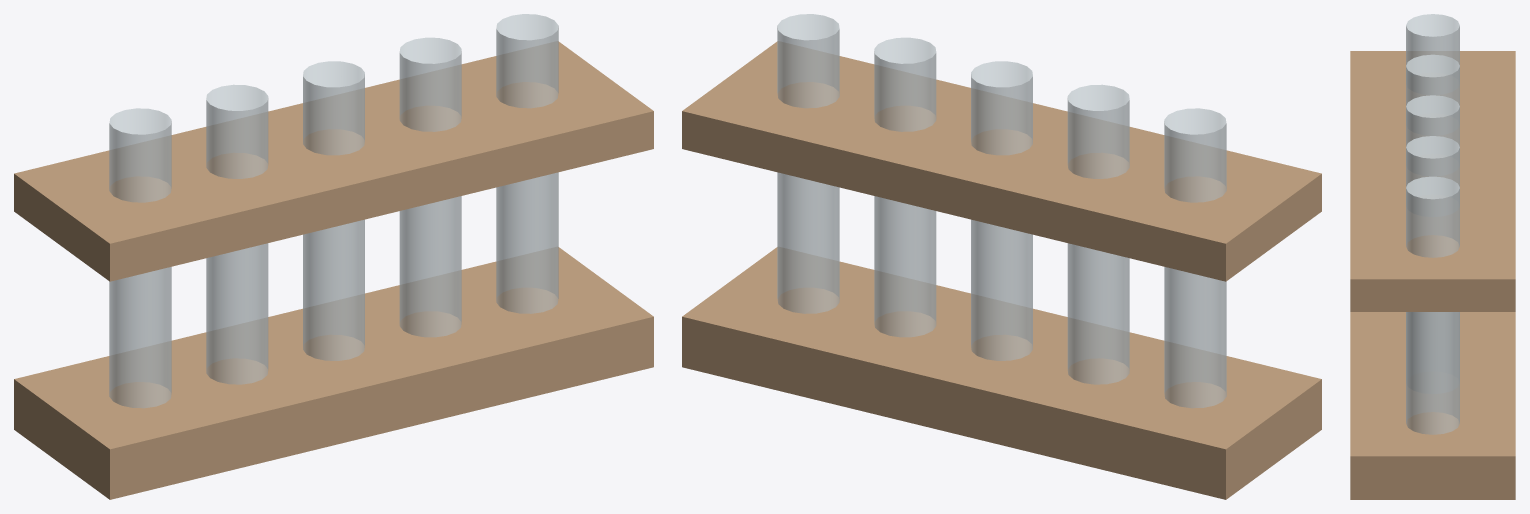
The model's file is TestTubeRack.glb.
3 views of the same model, side by side, from view 1: azimuth 30°, elevation 25°; view 2: azimuth 150°, elevation 25°; view 3: azimuth 270°, elevation 25° (orthographic). The views are drawn at different scales.
Visible parts, largest first — view 1: Base, TopRail, Tube_1, Tube_5, Tube_4, Tube_2, Tube_3; view 2: Base, TopRail, Tube_1, Tube_5, Tube_4, Tube_2, Tube_3; view 3: TopRail, Base, Tube_5, Tube_4, Tube_1, Tube_2, Tube_3.
Boxes of the visible parts, bbox=[...] form: Base: bbox=[14, 247, 653, 499]; TopRail: bbox=[14, 41, 653, 281]; Tube_1: bbox=[109, 108, 171, 408]; Tube_5: bbox=[496, 14, 558, 313]; Tube_4: bbox=[399, 37, 461, 337]; Tube_2: bbox=[206, 84, 268, 384]; Tube_3: bbox=[303, 61, 364, 360]; Base: bbox=[682, 247, 1321, 499]; TopRail: bbox=[682, 41, 1321, 281]; Tube_1: bbox=[1164, 108, 1226, 408]; Tube_5: bbox=[777, 14, 839, 313]; Tube_4: bbox=[874, 37, 936, 337]; Tube_2: bbox=[1067, 84, 1129, 384]; Tube_3: bbox=[971, 61, 1032, 360]; TopRail: bbox=[1350, 51, 1515, 311]; Base: bbox=[1350, 312, 1515, 499]; Tube_5: bbox=[1406, 176, 1459, 434]; Tube_4: bbox=[1406, 136, 1459, 187]; Tube_1: bbox=[1406, 14, 1459, 65]; Tube_2: bbox=[1406, 54, 1459, 106]; Tube_3: bbox=[1406, 95, 1459, 146].
Bounding box in the file's own units: 1.8 × 1.02 × 0.55.
